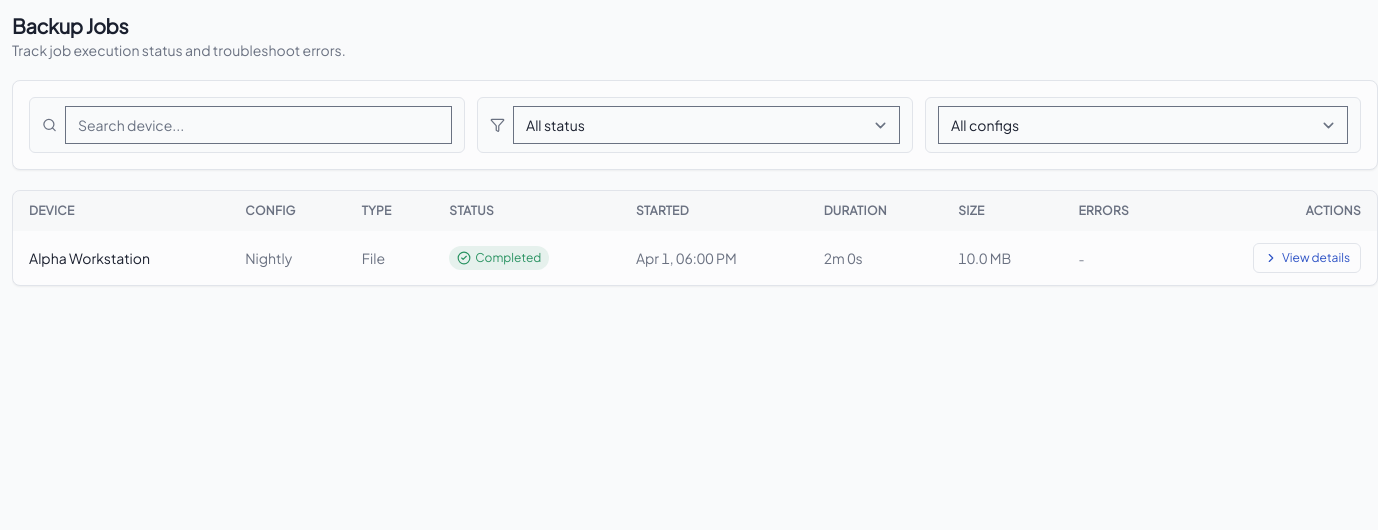
Scenario: BackupJobList › shows the incremental savings line for a completed job with referencedSize
This screenshot has width=1378, height=530.
Expected: the text "Alpha Workstation" is shown, [13,231,229,285]
What coordinates should you click on to do the following:
click the button with aria-label "View details for Alpha Workstation backup"
I would click on:
 (1307, 258)
Its box is [1253,243,1361,273].
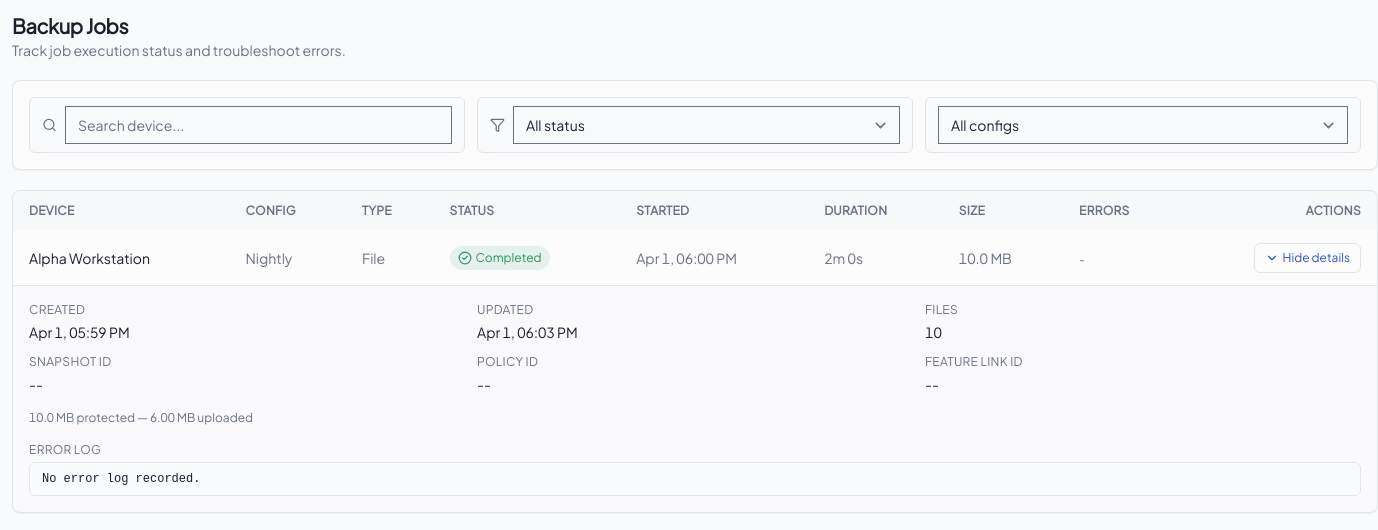
Expected: the text with test id "backup-job-savings" shows "10.0 MB", [29,410,253,425]
Expected: the text with test id "backup-job-savings" shows "6.00 MB", [29,410,253,425]
Expected: the text with test id "backup-job-savings" shows "protected", [29,410,253,425]
